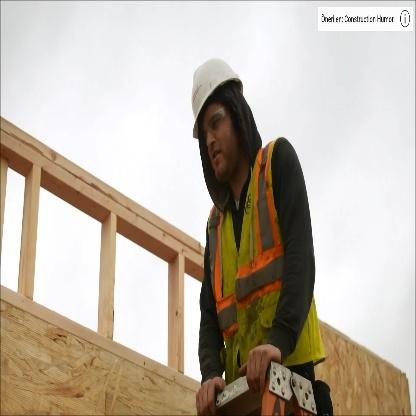helmet: (166, 52, 264, 192)
